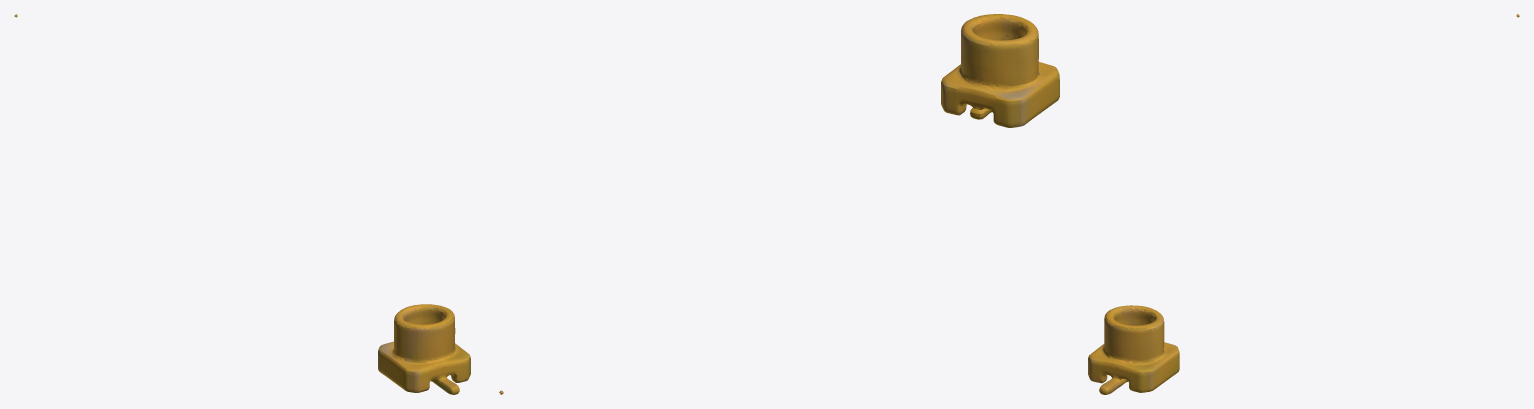
3 renders of one model, left to right at view 1: azimuth 30°, elevation 25°; view 2: azimuth 150°, elevation 25°; view 3: azimuth 330°, elevation 25°, orthographic. The views are drawn at different scales.
Parts seen in each view (by area): view 1: textured_mesh; view 2: textured_mesh; view 3: textured_mesh.
Part boxes in pixels (x1=…): textured_mesh: x1=14, y1=14, x2=470, y2=394; textured_mesh: x1=499, y1=14, x2=1059, y2=394; textured_mesh: x1=1088, y1=14, x2=1519, y2=394.
Size of the model in its own units: 0.175 by 0.1841 by 1.98.
1 material, 1 textured.
